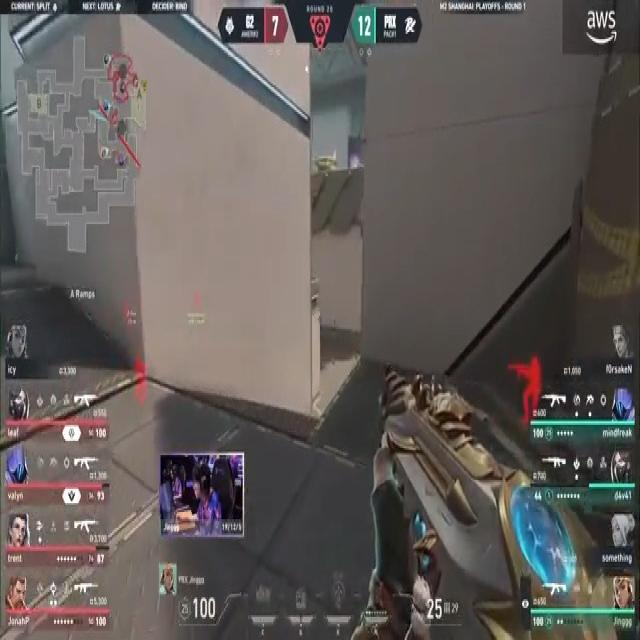enemy behind wall: (508, 348, 544, 424)
